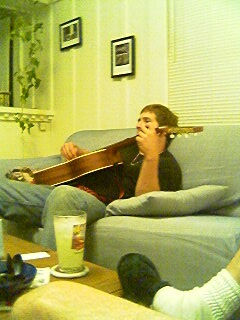person: (1, 106, 182, 251)
